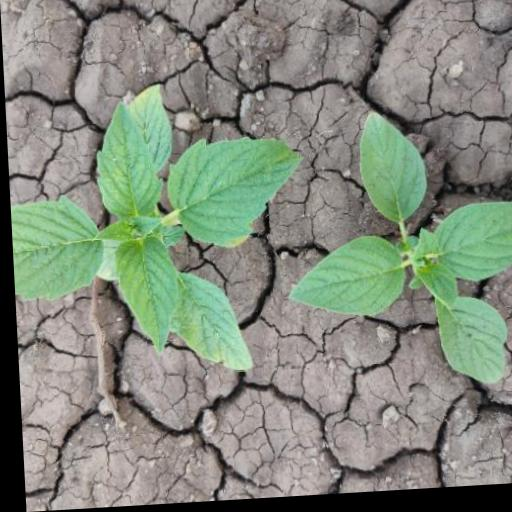crop: (4, 76, 308, 395), (277, 94, 512, 403)
